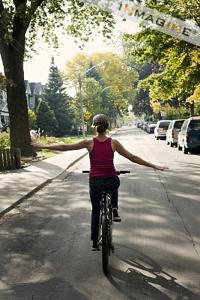person: (42, 115, 164, 252)
